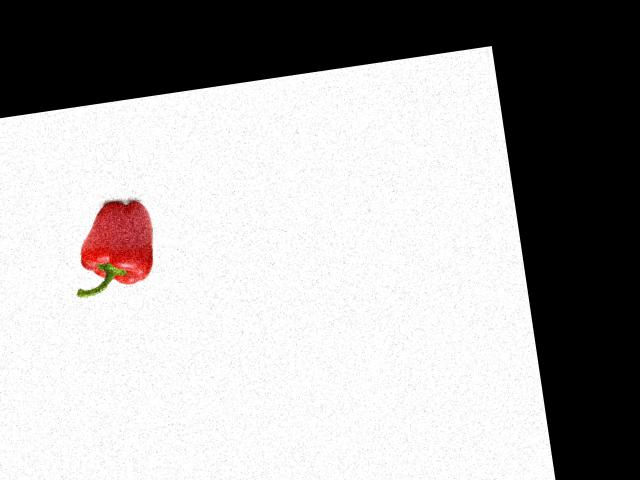bell_pepper: (61, 189, 165, 304)
